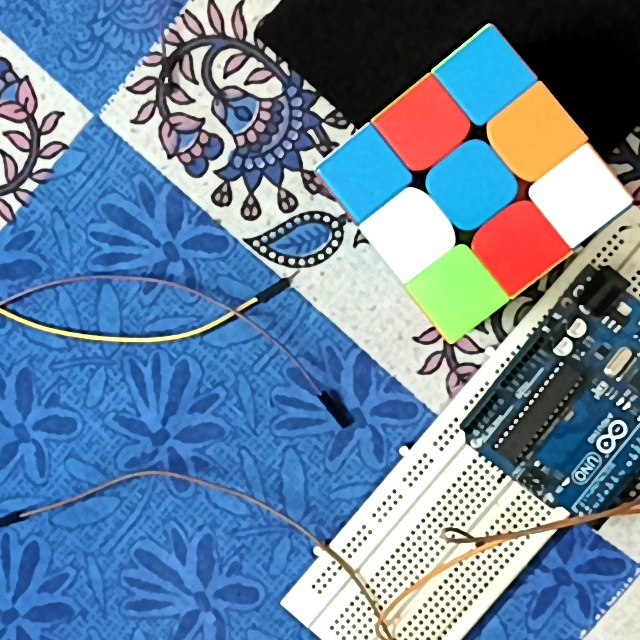tile: (491, 219, 544, 272), (434, 267, 486, 319), (553, 171, 606, 222), (458, 52, 512, 101), (510, 110, 560, 161), (447, 160, 496, 211), (386, 207, 434, 259), (400, 100, 449, 150), (345, 150, 389, 198)
